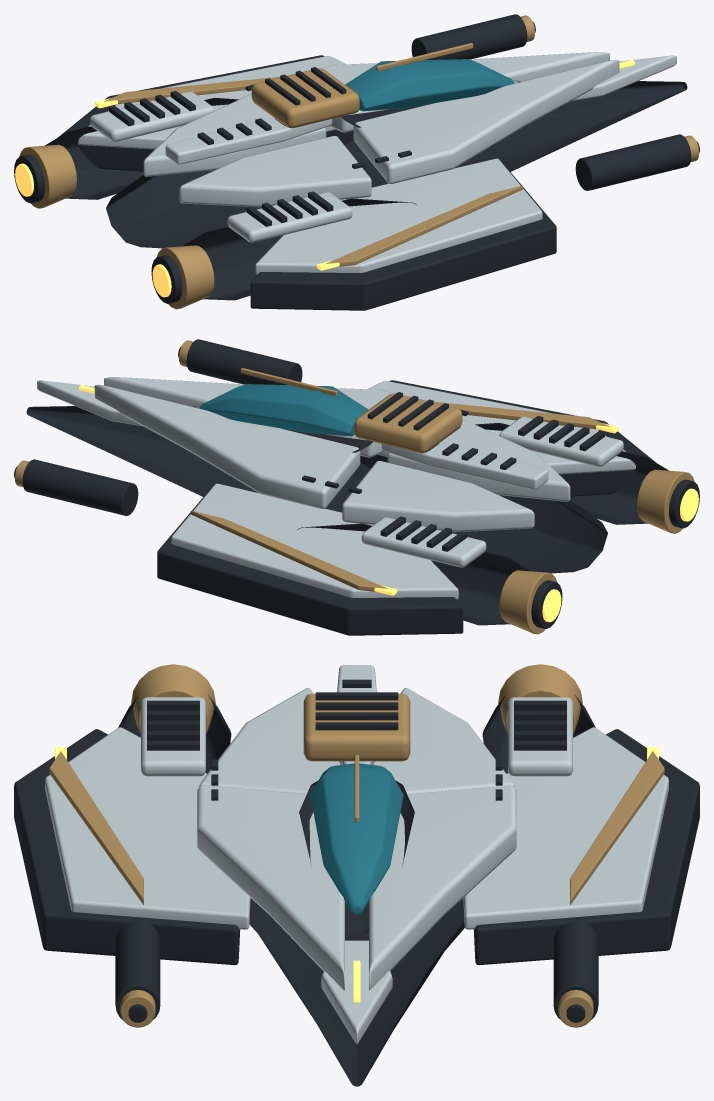
Rendered from heavy-v2.glb.
3 views of the same model, one above another, from view 1: azimuth 30°, elevation 25°; view 2: azimuth 150°, elevation 25°; view 3: azimuth 270°, elevation 25° (orthographic). The views are drawn at different scales.
Parts seen in each view (by area): view 1: independent wing ceramic, continuous pressure hull, forward shoulder armour, swept wing subframe, aft shoulder armour, smoked laminated canopy, aft shoulder armour.001, weapon sleeve, engine armoured nacelle, armoured reactor cover, forward shoulder armour.001, weapon sleeve.001 (+17 smaller); view 2: independent wing ceramic.001, continuous pressure hull, forward shoulder armour.001, swept wing subframe.001, aft shoulder armour.001, smoked laminated canopy, aft shoulder armour, weapon sleeve.001, engine armoured nacelle.001, armoured reactor cover, forward shoulder armour, weapon sleeve (+17 smaller); view 3: independent wing ceramic, independent wing ceramic.001, forward shoulder armour.001, forward shoulder armour, swept wing subframe, swept wing subframe.001, continuous pressure hull, smoked laminated canopy, aft shoulder armour, aft shoulder armour.001, armoured reactor cover, nose sensor ceramic (+18 smaller).
Part boxes in pixels (bbox=[...]): independent wing ceramic: bbox=[255, 158, 542, 274]; continuous pressure hull: bbox=[106, 81, 687, 248]; forward shoulder armour: bbox=[353, 59, 619, 183]; swept wing subframe: bbox=[250, 168, 556, 310]; aft shoulder armour: bbox=[179, 136, 371, 207]; smoked laminated canopy: bbox=[345, 59, 514, 111]; aft shoulder armour.001: bbox=[143, 94, 326, 176]; weapon sleeve: bbox=[575, 134, 691, 190]; engine armoured nacelle: bbox=[182, 198, 416, 300]; armoured reactor cover: bbox=[251, 68, 359, 128]; forward shoulder armour.001: bbox=[321, 52, 609, 132]; weapon sleeve.001: bbox=[411, 14, 527, 59]; independent wing ceramic.001: bbox=[171, 483, 458, 599]; continuous pressure hull: bbox=[26, 406, 607, 573]; forward shoulder armour.001: bbox=[94, 384, 360, 508]; swept wing subframe.001: bbox=[157, 493, 463, 635]; aft shoulder armour.001: bbox=[342, 461, 534, 532]; smoked laminated canopy: bbox=[199, 384, 368, 436]; aft shoulder armour: bbox=[387, 419, 570, 501]; weapon sleeve.001: bbox=[22, 459, 138, 515]; engine armoured nacelle.001: bbox=[297, 523, 531, 625]; armoured reactor cover: bbox=[354, 393, 462, 453]; forward shoulder armour: bbox=[104, 377, 392, 457]; weapon sleeve: bbox=[186, 339, 302, 384]; independent wing ceramic: bbox=[45, 727, 250, 929]; independent wing ceramic.001: bbox=[463, 727, 668, 929]; forward shoulder armour.001: bbox=[369, 785, 516, 990]; forward shoulder armour: bbox=[197, 785, 344, 990]; swept wing subframe: bbox=[14, 729, 240, 965]; swept wing subframe.001: bbox=[473, 729, 699, 965]; continuous pressure hull: bbox=[249, 898, 464, 1086]; smoked laminated canopy: bbox=[310, 763, 403, 914]; aft shoulder armour: bbox=[199, 688, 339, 794]; aft shoulder armour.001: bbox=[374, 688, 514, 794]; armoured reactor cover: bbox=[303, 693, 410, 761]; nose sensor ceramic: bbox=[321, 940, 392, 1043].
Bounding box in the file's own units: 155 × 34.6 × 116.
